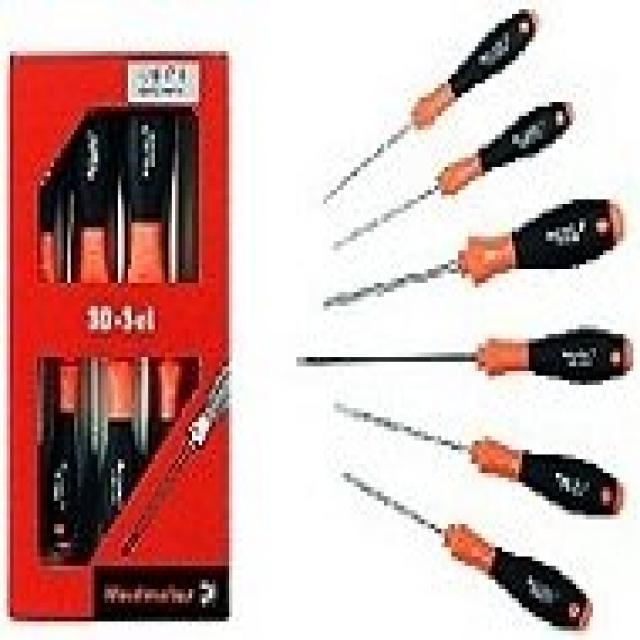screwdriver: (304, 14, 540, 208), (320, 192, 640, 334), (328, 93, 592, 263), (326, 464, 592, 628), (340, 386, 636, 516), (288, 320, 640, 390)
